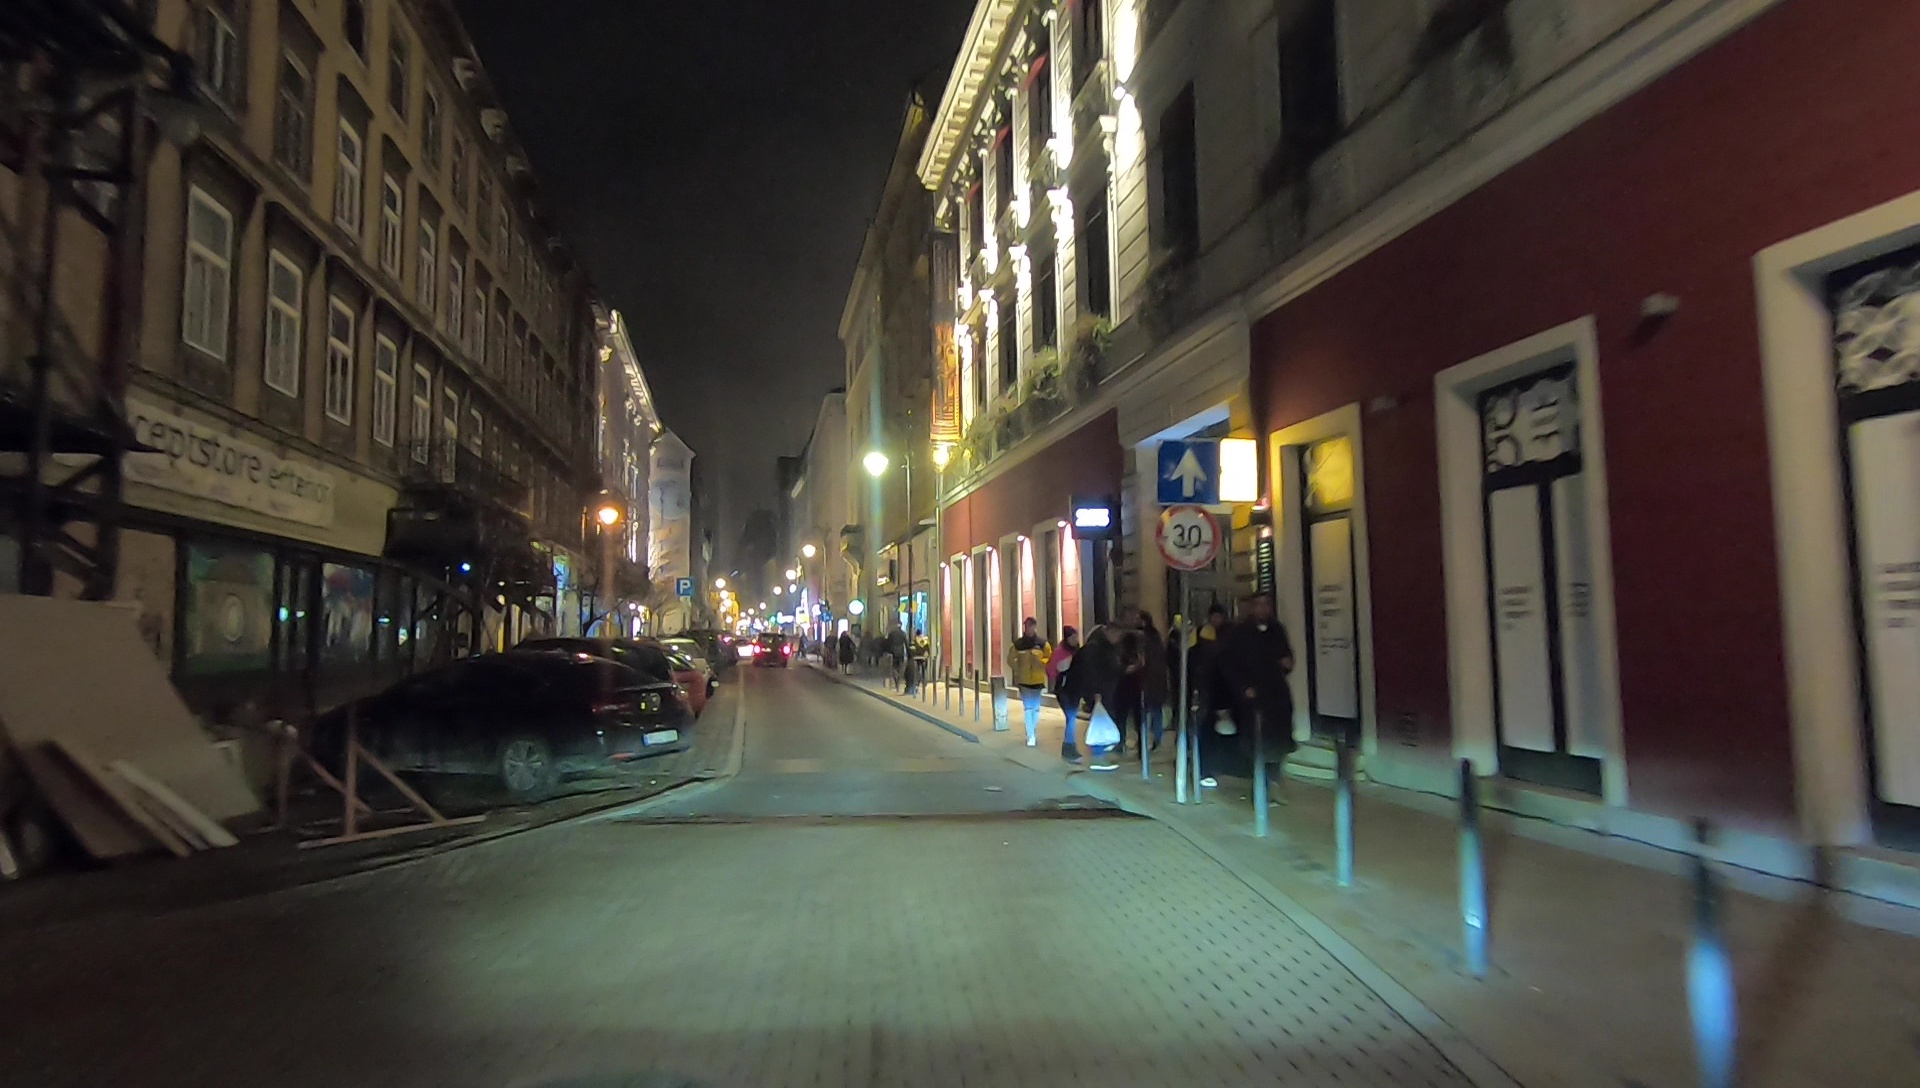person: (1189, 603, 1247, 787), (1245, 595, 1297, 782), (1085, 616, 1124, 775), (1049, 622, 1088, 760), (1125, 611, 1161, 754), (1013, 618, 1051, 745), (886, 622, 906, 685), (912, 629, 930, 681)
